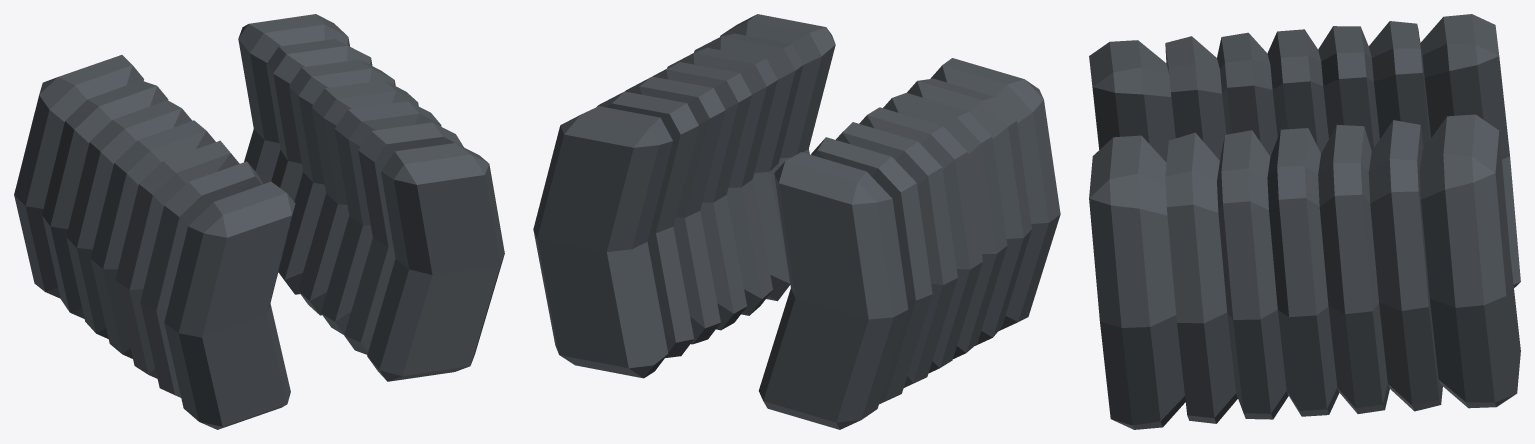
Rendered from Personal_Vehicle_02_Fins_Yellow.fbx.
3 views of the same model, side by side, from view 1: azimuth 30°, elevation 25°; view 2: azimuth 150°, elevation 25°; view 3: azimuth 270°, elevation 25° (orthographic). The views are drawn at different scales.
Parts seen in each view (by area): view 1: Personal_Vehicle_02_Fins_Yellow; view 2: Personal_Vehicle_02_Fins_Yellow; view 3: Personal_Vehicle_02_Fins_Yellow.
Part boxes in pixels (bbox=[...]): Personal_Vehicle_02_Fins_Yellow: bbox=[14, 14, 504, 429]; Personal_Vehicle_02_Fins_Yellow: bbox=[533, 14, 1060, 429]; Personal_Vehicle_02_Fins_Yellow: bbox=[1089, 14, 1520, 429].
Bounding box in the file's own units: 111 × 79.02 × 109.
Materials: 1 (1 with a texture image).
